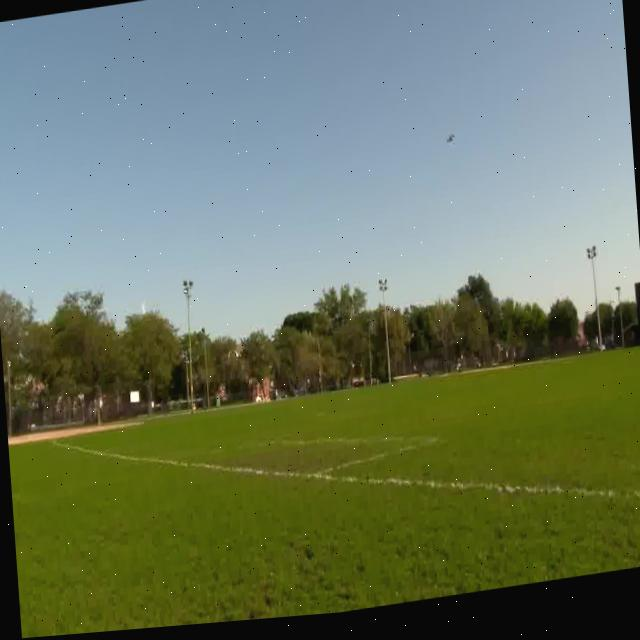drone: (433, 130, 459, 159)
